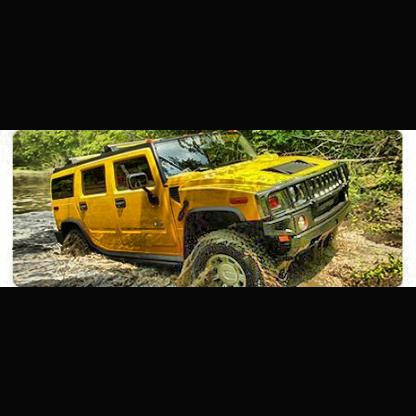AM General Hummer SUV 2000: (51, 131, 354, 287)
